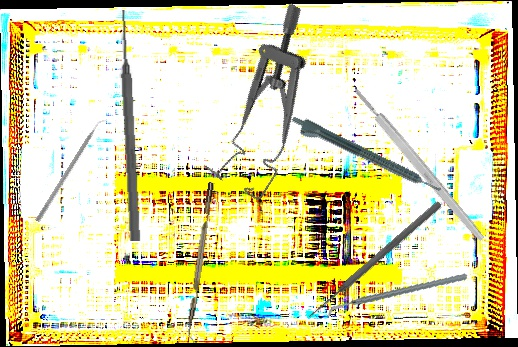Chopper: (325, 250, 468, 341), (35, 115, 110, 226), (183, 181, 222, 344)
Handpiece: (287, 113, 443, 202)
Pusher: (304, 199, 444, 322), (115, 9, 144, 242)
Scalpel Handle: (351, 85, 487, 244)
Speculum: (189, 1, 358, 204)
